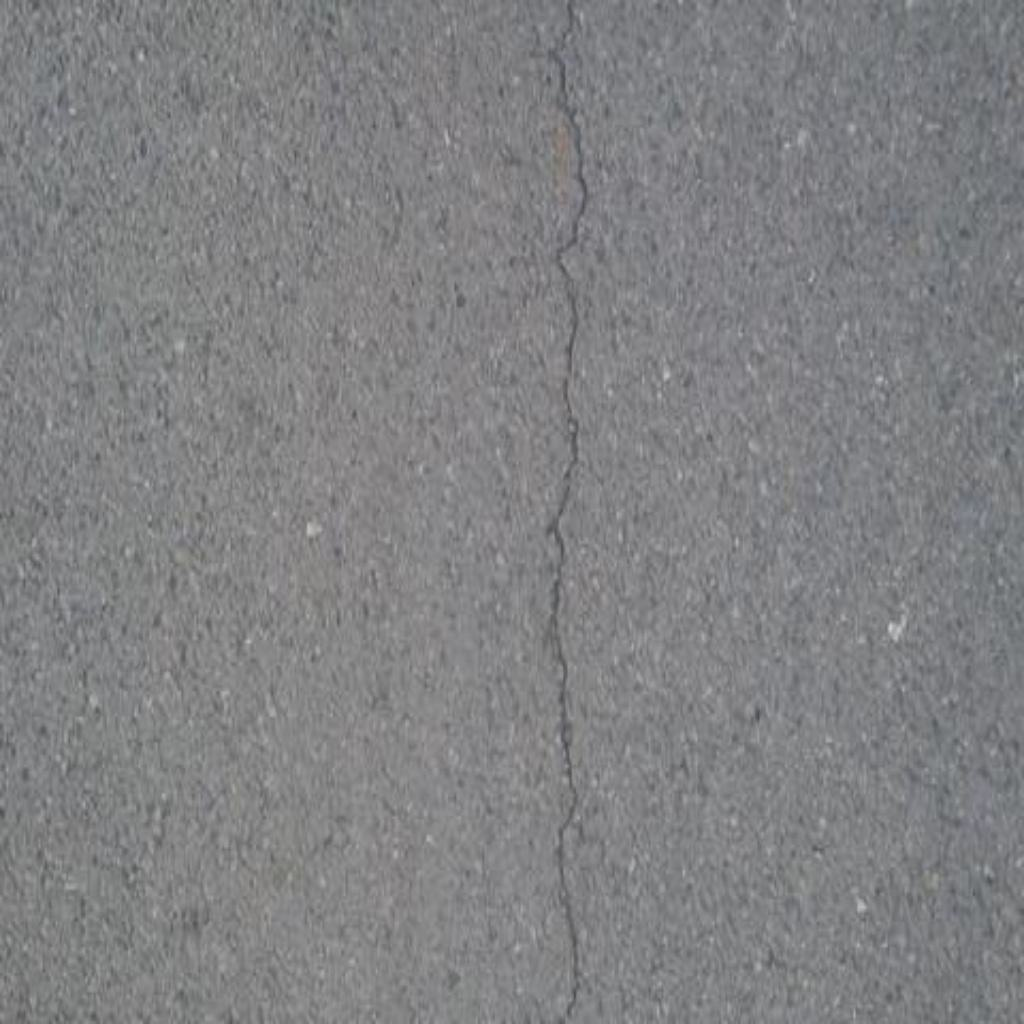Crack: (548, 1, 589, 1024)
